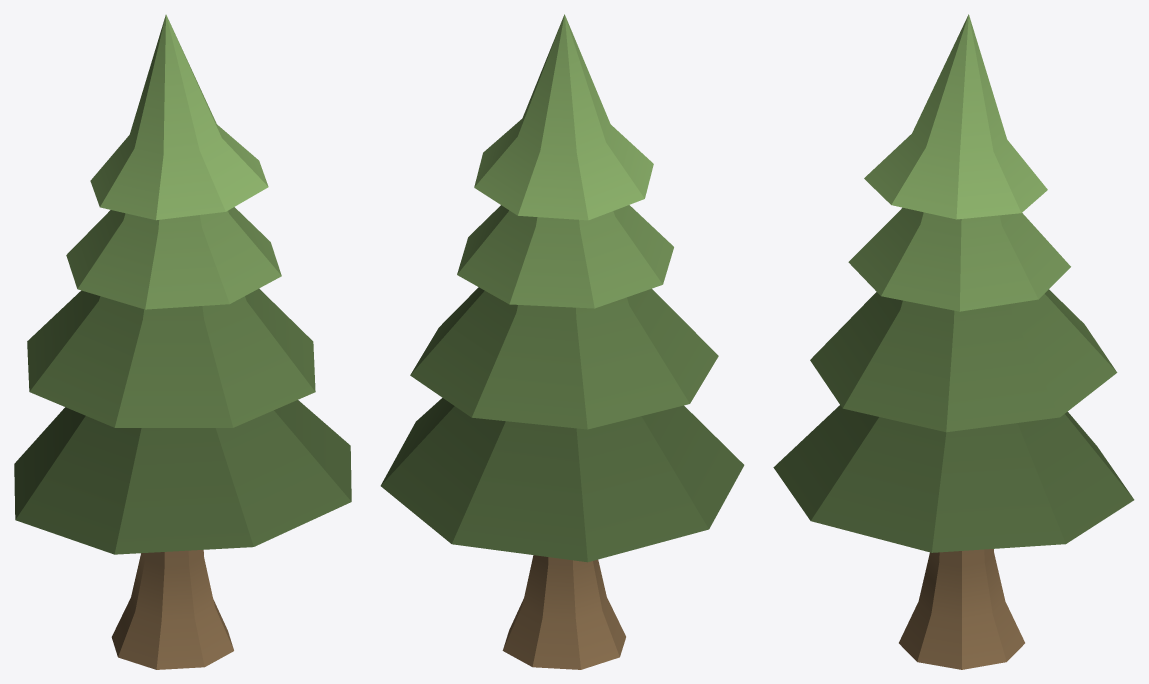
The model's file is treeModel_2.glb.
3 views of the same model, side by side, from view 1: azimuth 30°, elevation 25°; view 2: azimuth 150°, elevation 25°; view 3: azimuth 270°, elevation 25° (orthographic).
Parts seen in each view (by area): view 1: pCone4.004, pCone3.004, pCone1.004, pCone2.004, pCylinder3.005; view 2: pCone4.004, pCone3.004, pCone1.004, pCone2.004, pCylinder3.005; view 3: pCone4.004, pCone3.004, pCone1.004, pCone2.004, pCylinder3.005.
Boxes of the visible parts, <box> form: pCone4.004: <box>14,400,351,554</box>; pCone3.004: <box>27,288,315,427</box>; pCone1.004: <box>90,14,268,220</box>; pCone2.004: <box>66,207,281,309</box>; pCylinder3.005: <box>111,550,233,669</box>; pCone4.004: <box>380,398,744,562</box>; pCone3.004: <box>410,287,718,429</box>; pCone1.004: <box>474,14,653,220</box>; pCone2.004: <box>457,205,673,308</box>; pCylinder3.005: <box>502,555,625,669</box>; pCone4.004: <box>773,405,1134,552</box>; pCone3.004: <box>810,289,1117,432</box>; pCone1.004: <box>864,14,1047,219</box>; pCone2.004: <box>848,207,1070,311</box>; pCylinder3.005: <box>899,549,1024,669</box>.
Size of the model in its own units: 0.1404 by 0.2691 by 0.1404.
